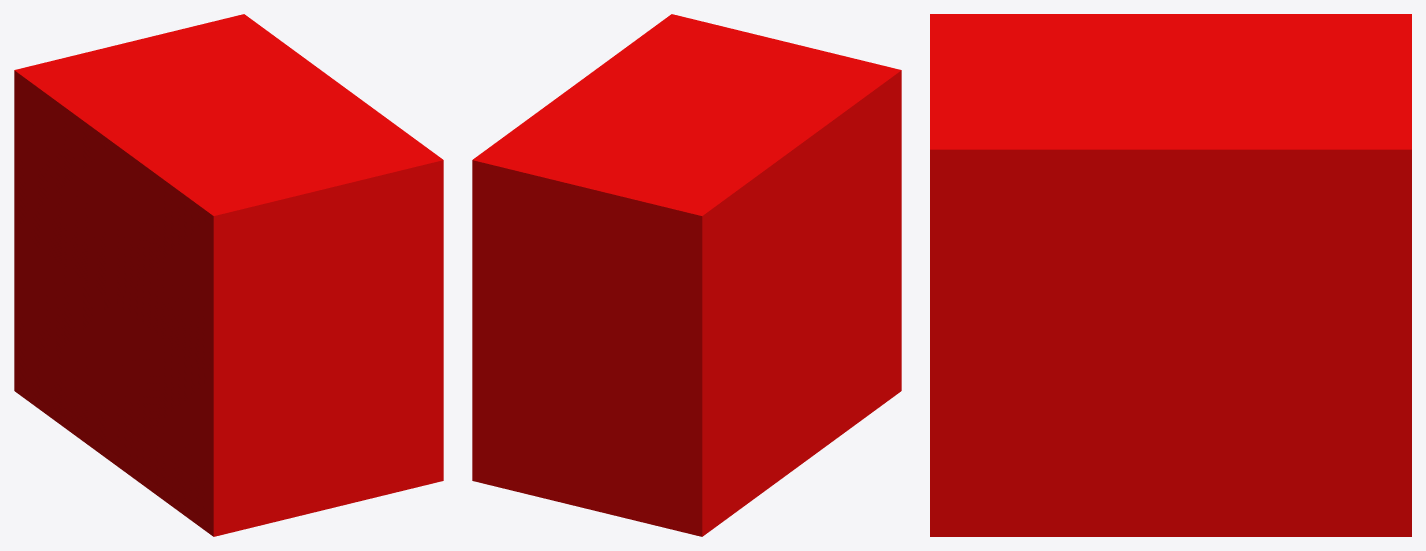
Rendered from metacarpal1_rvs_col.dae.
3 views of the same model, side by side, from view 1: azimuth 30°, elevation 25°; view 2: azimuth 150°, elevation 25°; view 3: azimuth 270°, elevation 25° (orthographic). The views are drawn at different scales.
Parts seen in each view (by area): view 1: node0; view 2: node0; view 3: node0.
Part boxes in pixels (bbox=[...]): node0: bbox=[14, 14, 443, 536]; node0: bbox=[472, 14, 901, 536]; node0: bbox=[930, 14, 1411, 536].
Size of the model in its own units: 0.0278 by 0.0371 by 0.0418.
